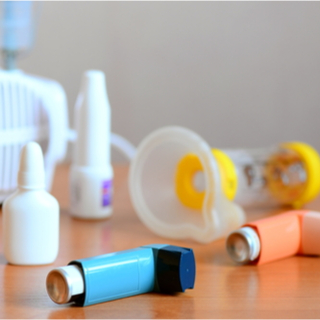Medicine: (49, 230, 215, 315), (70, 64, 119, 228), (8, 142, 61, 264), (228, 207, 320, 269)
